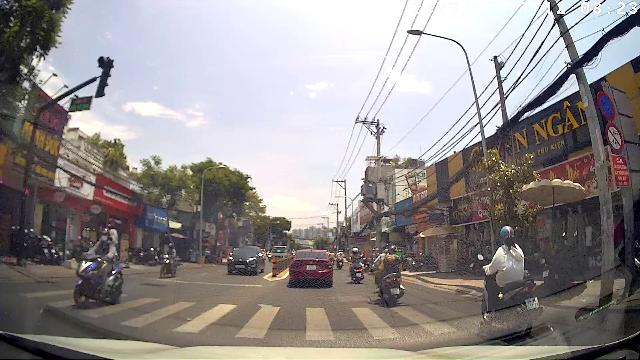131a-cam-do-xe: (597, 91, 616, 120)
